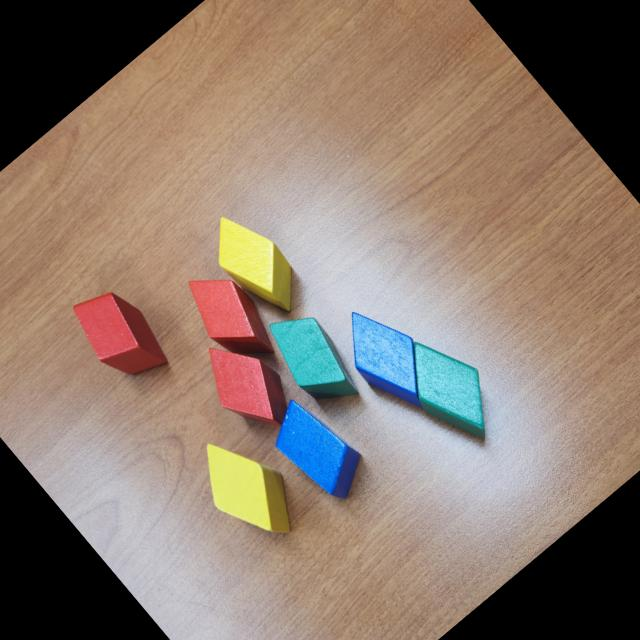blue: (326, 292, 450, 423), (258, 386, 375, 509)
green: (385, 322, 517, 459), (255, 297, 371, 420)
red: (190, 324, 306, 446), (62, 274, 177, 394), (175, 257, 288, 377)
yellow: (181, 419, 312, 556), (196, 201, 315, 327)
